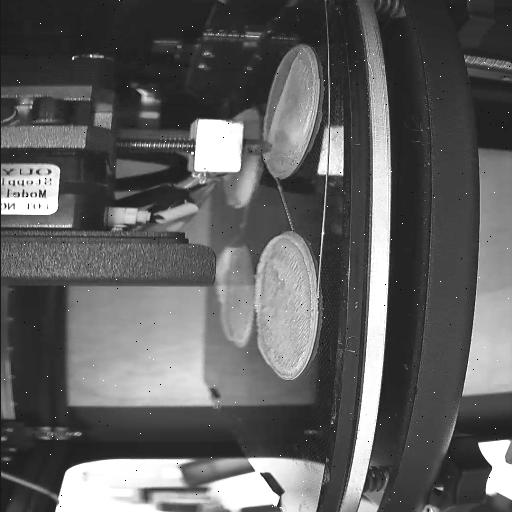over_extrusion: (252, 234, 314, 316), (265, 52, 303, 140), (212, 244, 236, 302), (250, 331, 274, 367), (218, 309, 234, 341)
